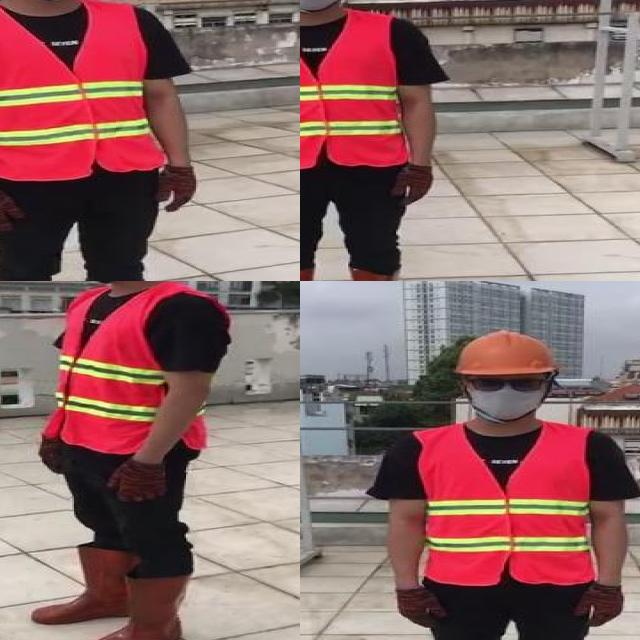boots: (30, 544, 136, 624), (81, 577, 187, 640)
face_mask: (460, 370, 554, 426)
glasses: (461, 370, 556, 399)
hand_glove: (106, 460, 165, 502), (575, 583, 629, 628), (394, 585, 447, 629), (155, 168, 198, 213), (392, 166, 433, 208), (0, 190, 27, 233)
head_helmet: (450, 328, 558, 381)
person: (367, 325, 636, 640), (19, 281, 241, 640), (0, 0, 208, 281), (300, 0, 445, 281)
vest: (417, 425, 595, 585), (0, 7, 162, 181), (49, 286, 207, 456), (300, 14, 403, 167)
